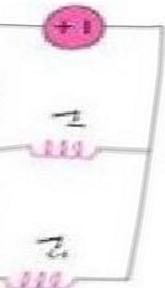Battery: (35, 0, 124, 61)
